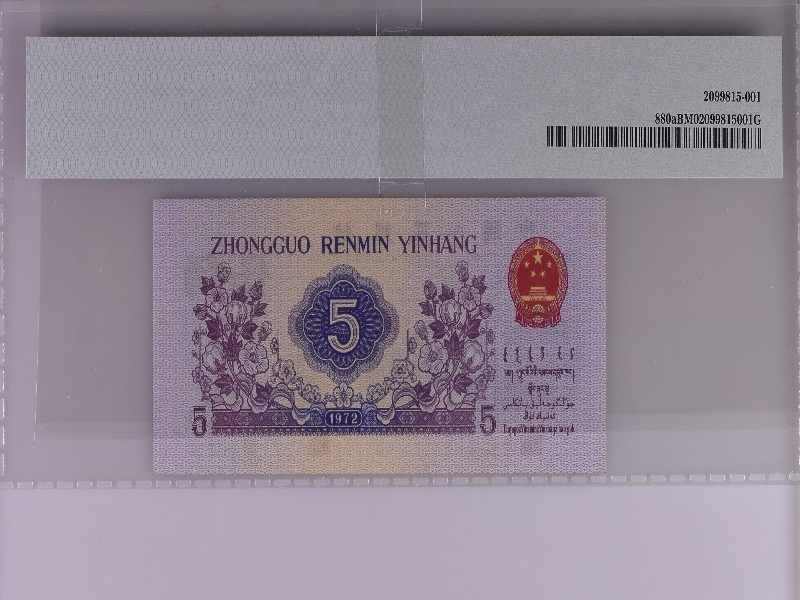papernote: (150, 196, 610, 477)
